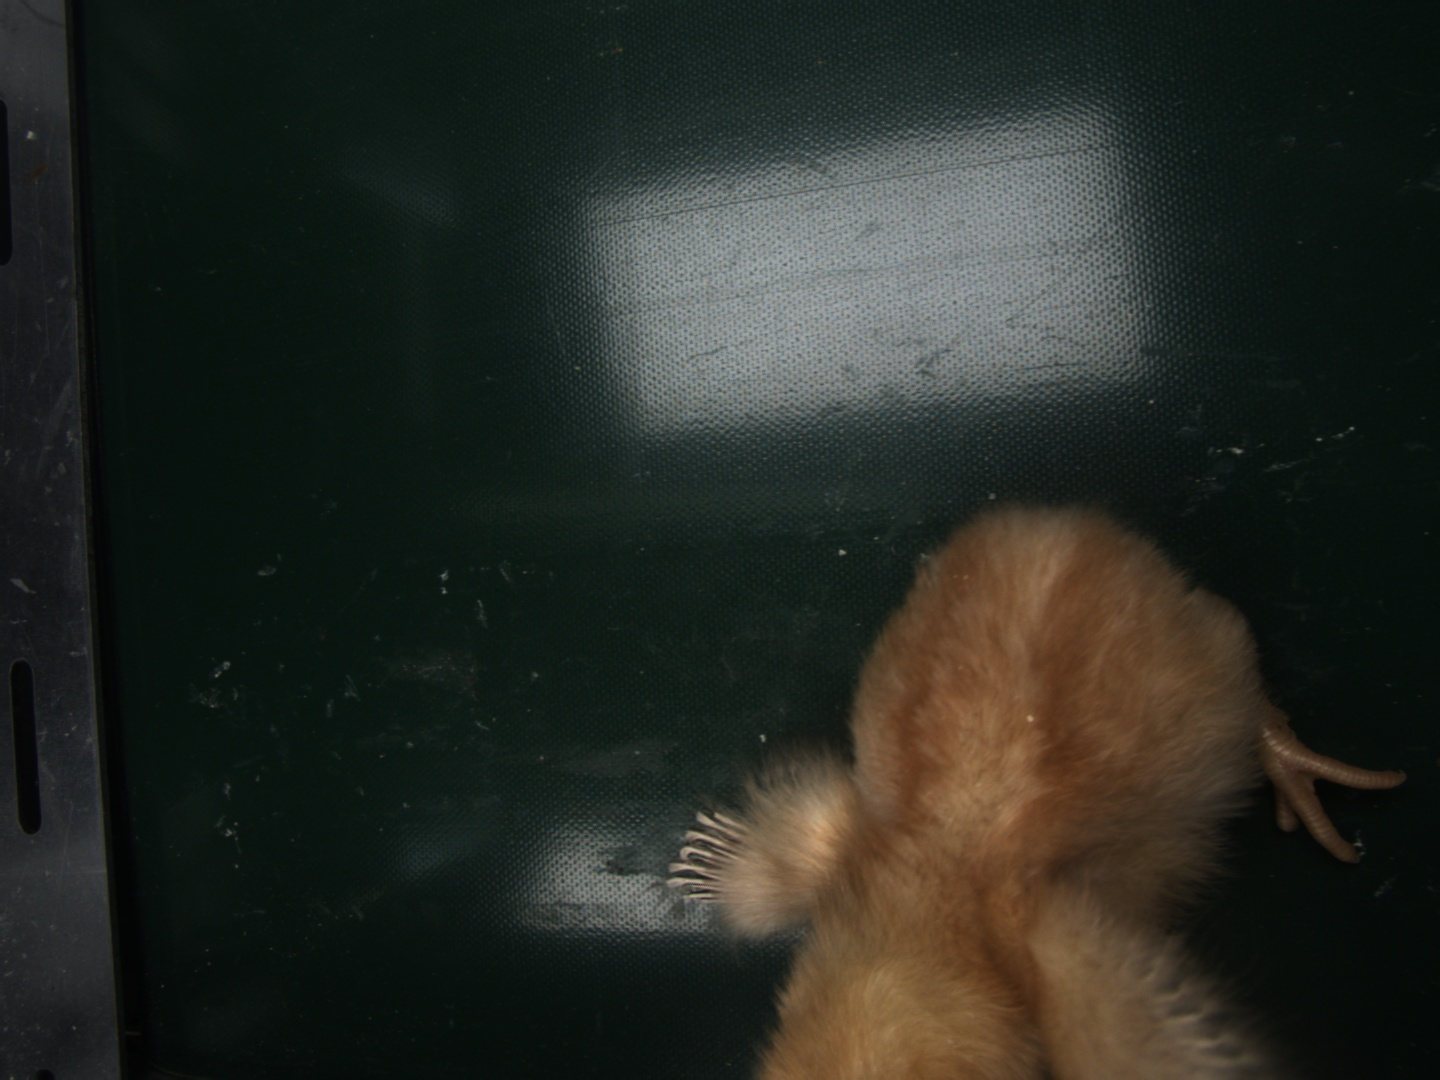female: (669, 810, 754, 906)
